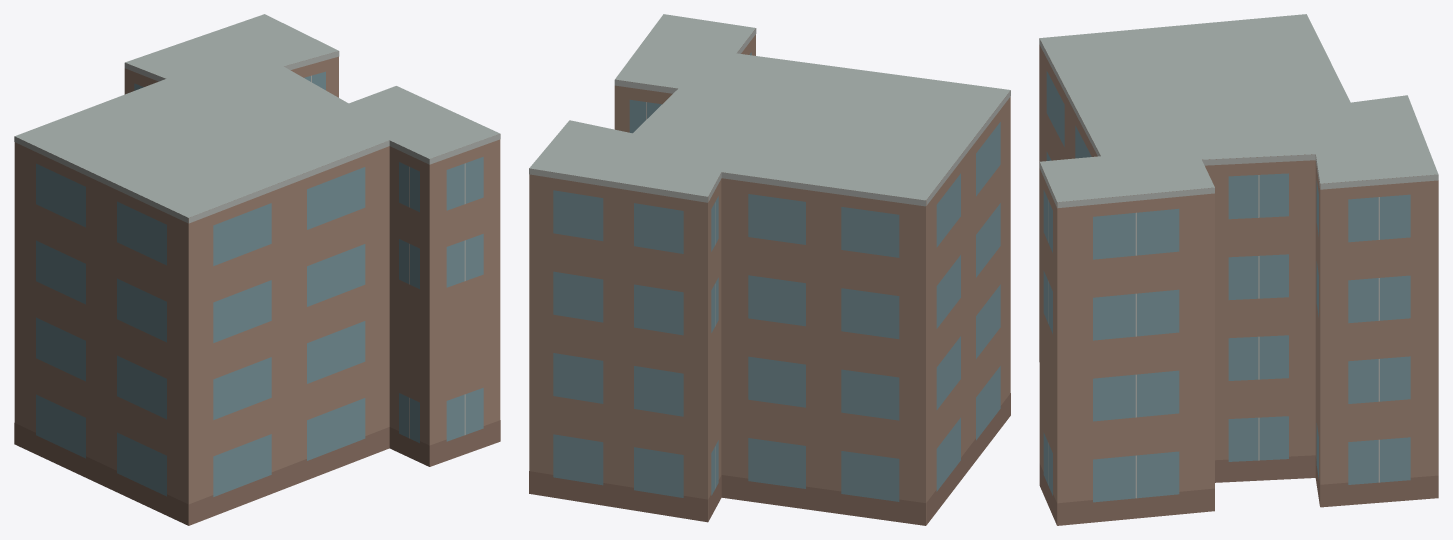
File: survey-upis-32983091.glb
The picture shows the model from 3 angles, left to right: view 1: azimuth 30°, elevation 25°; view 2: azimuth 150°, elevation 25°; view 3: azimuth 270°, elevation 25°; orthographic projection. The views are drawn at different scales.
Visible parts, largest first — view 1: survey-upis-32983091.tmp; view 2: survey-upis-32983091.tmp; view 3: survey-upis-32983091.tmp.
Part boxes in pixels (x1,y1,x2,y2): survey-upis-32983091.tmp: (14,14,500,525); survey-upis-32983091.tmp: (529,14,1010,525); survey-upis-32983091.tmp: (1039,14,1438,525).
Size of the model in its own units: 16.48 by 13.2 by 14.77.
